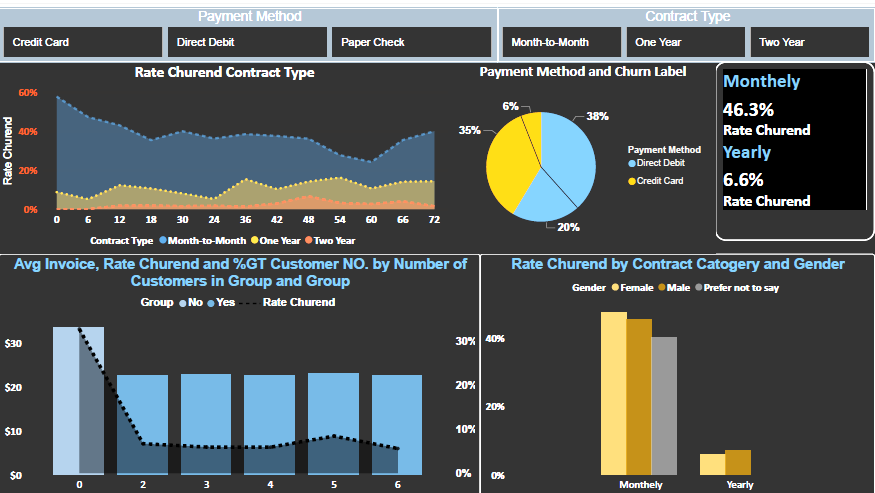

What the dashboard file says about the page in this screenshot:
{"tool":"powerbi","page":{"name":"Demogrphice","canvas":[1280,720],"ordinal":1},"visuals":[{"type":"lineStackedColumnComboChart","fields":{"Category":["Customer Churn.Number of Customers in Group"],"Series":["Customer Churn.Group"],"Y":["Calculation.Avg Invoice"],"Y2":["Calculation.Rate Churend"]},"box":[0,359.9,703.2,359.9],"z":0},{"type":"lineClusteredColumnComboChart","fields":{"Category":["Customer Churn.Contract Catogery"],"Y":["Calculation.Rate Churend"],"Series":["Customer Churn.Gender"]},"box":[703.2,359.9,576.8,359.9],"z":1000},{"type":"multiRowCard","fields":{"Values":["Customer Churn.Contract Catogery","Calculation.Rate Churend"]},"box":[1046,79.4,233.9,262.2],"z":2000},{"type":"areaChart","title":"Rate Churend Contract Type","fields":{"Category":["Customer Churn.Account Length (in months) (bins)"],"Y":["Calculation.Rate Churend"],"Series":["Customer Churn.Contract Type"]},"box":[0,79.8,659.6,280.1],"z":3000},{"type":"pieChart","title":" Payment Method and Churn Label","fields":{"Category":["Customer Churn.Payment Method"],"Series":["Customer Churn.Churn Label"],"Y":["Calculation.Customer NO."]},"box":[659.6,79.8,387,280.1],"z":4000},{"type":"advancedSlicerVisual","fields":{"Values":["Customer Churn.Payment Method"]},"box":[0,0,728.8,79.8],"z":4001},{"type":"advancedSlicerVisual","fields":{"Values":["Customer Churn.Contract Type"]},"box":[728.8,0,551.2,79.8],"z":4002}]}

Visuals, with their boxes in screenshot pixels (x1, y1, x2, y2), scaled from the page's 1280x720 canvas onto the 875x493 screenshot:
lineStackedColumnComboChart - Customer Churn.Number of Customers in Group x Customer Churn.Group: 0:246:481:492
lineClusteredColumnComboChart - Customer Churn.Contract Catogery x Calculation.Rate Churend: 481:246:874:492
multiRowCard - Customer Churn.Contract Catogery x Calculation.Rate Churend: 715:54:874:234
"Rate Churend Contract Type" areaChart: 0:55:451:246
" Payment Method and Churn Label" pieChart: 451:55:715:246
advancedSlicerVisual - Customer Churn.Payment Method: 0:0:498:55
advancedSlicerVisual - Customer Churn.Contract Type: 498:0:874:55
